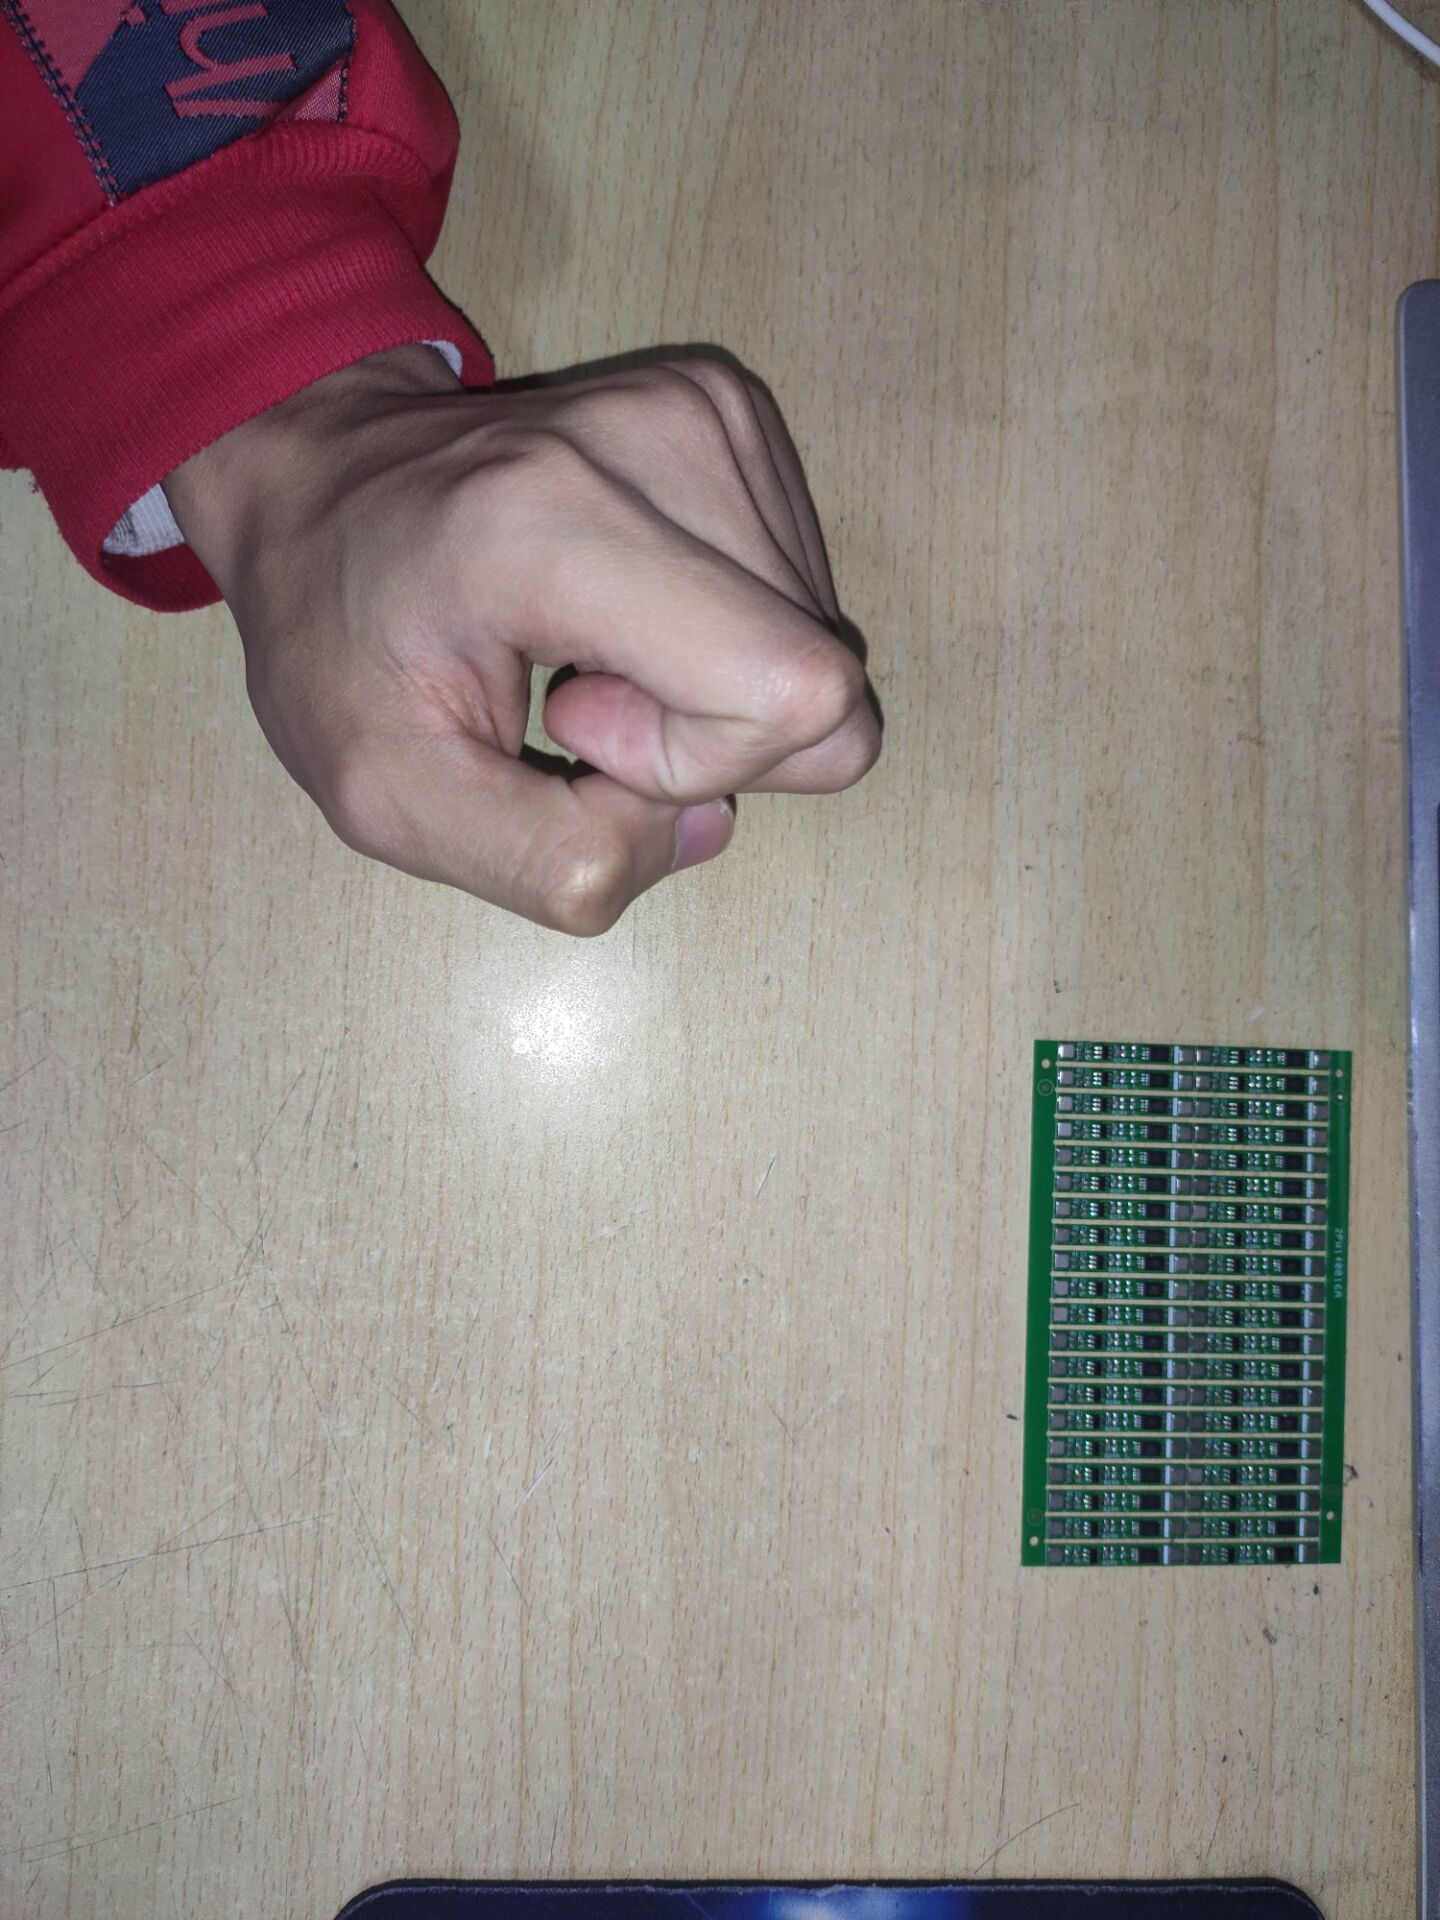point: (1304, 1518, 1322, 1537), (1047, 1520, 1066, 1537), (1189, 1440, 1206, 1457), (1168, 1467, 1185, 1485), (1185, 1494, 1203, 1510), (1304, 1544, 1321, 1561), (1309, 1105, 1328, 1120), (1309, 1285, 1325, 1301), (1309, 1338, 1325, 1354), (1050, 1439, 1066, 1456), (1046, 1547, 1064, 1563), (1312, 1055, 1329, 1070), (1186, 1518, 1204, 1533), (1058, 1070, 1074, 1086), (1177, 1152, 1193, 1167), (1175, 1178, 1192, 1193), (1171, 1335, 1186, 1351), (1312, 1080, 1328, 1094), (1310, 1207, 1326, 1222), (1050, 1387, 1067, 1402), (1050, 1412, 1065, 1429), (1171, 1415, 1186, 1431), (1169, 1547, 1184, 1563), (1304, 1492, 1317, 1510), (1193, 1257, 1209, 1271), (1192, 1281, 1207, 1295), (1172, 1230, 1188, 1246), (1311, 1132, 1327, 1147), (1310, 1232, 1325, 1247), (1170, 1442, 1186, 1457), (1169, 1494, 1184, 1509), (1187, 1546, 1203, 1561), (1060, 1045, 1077, 1058), (1176, 1100, 1192, 1114), (1192, 1338, 1208, 1352), (1172, 1363, 1189, 1378), (1308, 1390, 1322, 1406), (1168, 1388, 1185, 1402), (1050, 1468, 1067, 1481), (1196, 1127, 1210, 1141), (1175, 1204, 1189, 1218), (1174, 1285, 1189, 1299), (1172, 1310, 1188, 1325), (1309, 1313, 1323, 1326), (1308, 1365, 1323, 1379), (1307, 1417, 1321, 1431), (1306, 1444, 1321, 1458), (1307, 1469, 1321, 1485), (1169, 1522, 1185, 1536), (1176, 1126, 1192, 1139), (1191, 1365, 1207, 1377), (1053, 1308, 1067, 1321), (1053, 1334, 1066, 1347), (1196, 1154, 1210, 1167), (1314, 1157, 1328, 1170), (1309, 1261, 1322, 1274), (1190, 1390, 1204, 1403), (1055, 1255, 1070, 1267), (1179, 1050, 1194, 1063), (1174, 1257, 1189, 1269), (1048, 1495, 1064, 1508), (1194, 1180, 1210, 1192), (1057, 1098, 1070, 1111), (1057, 1150, 1071, 1162), (1057, 1202, 1070, 1216), (1054, 1281, 1067, 1294), (1180, 1075, 1193, 1087), (1193, 1205, 1207, 1217), (1193, 1310, 1207, 1323), (1311, 1183, 1325, 1196), (1052, 1360, 1064, 1374), (1190, 1415, 1203, 1429), (1197, 1050, 1212, 1062), (1057, 1175, 1070, 1187), (1193, 1230, 1206, 1242), (1190, 1469, 1203, 1482), (1197, 1103, 1210, 1114), (1058, 1125, 1070, 1136), (1056, 1230, 1068, 1241), (1196, 1078, 1209, 1089)
